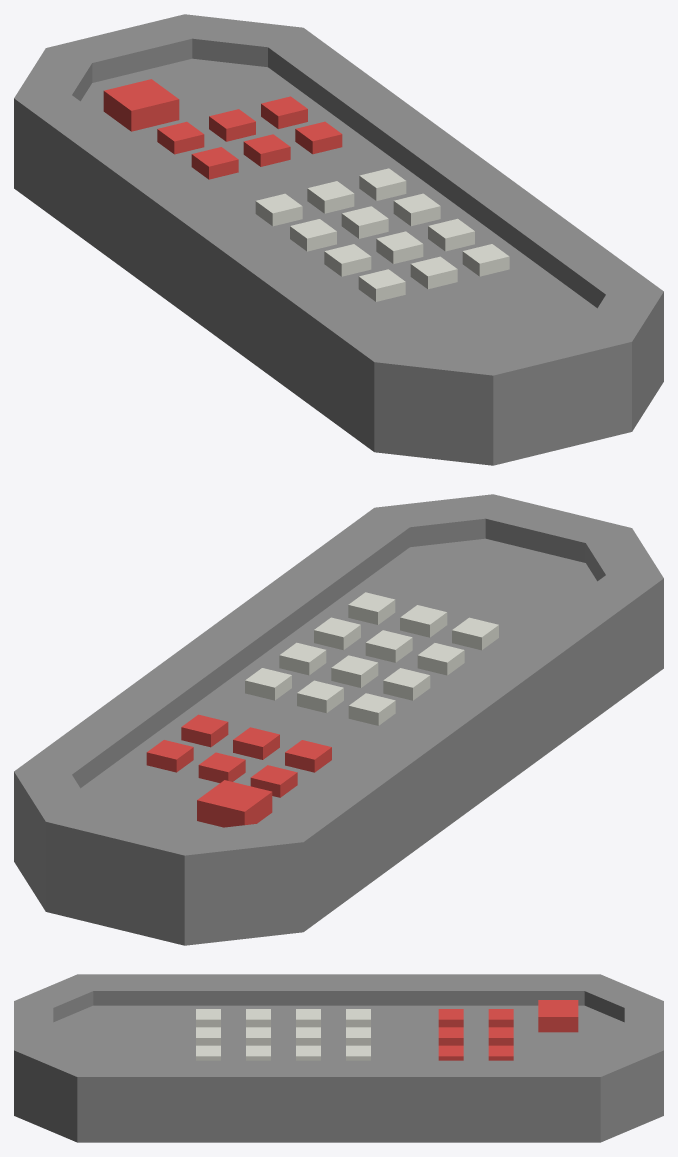
File: Remote.fbx
3 renders of one model, top to bottom at view 1: azimuth 30°, elevation 25°; view 2: azimuth 150°, elevation 25°; view 3: azimuth 270°, elevation 25°, orthographic. The views are drawn at different scales.
Parts seen in each view (by area): view 1: remote control; view 2: remote control; view 3: remote control.
Part boxes in pixels (box(x1,y1,x2,y2)): remote control: box(14, 14, 663, 465); remote control: box(14, 494, 663, 945); remote control: box(14, 974, 663, 1142).
Bounding box in the file's own units: 70.19 × 21.07 × 188.
